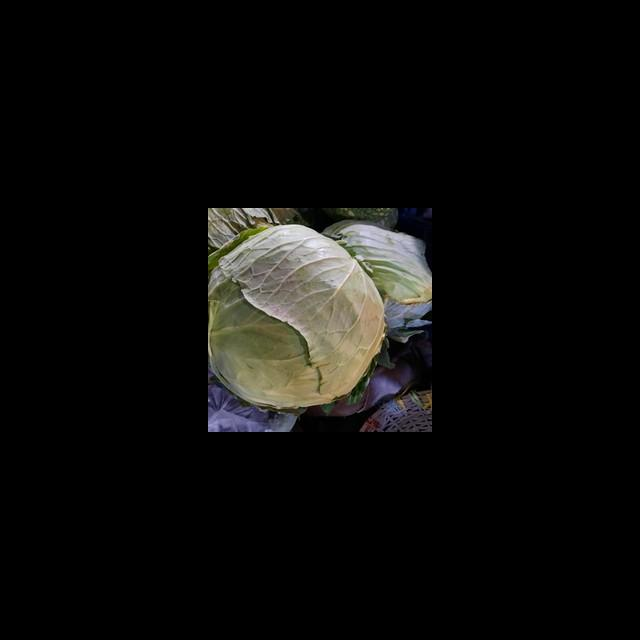cabbage: (208, 225, 386, 412)
